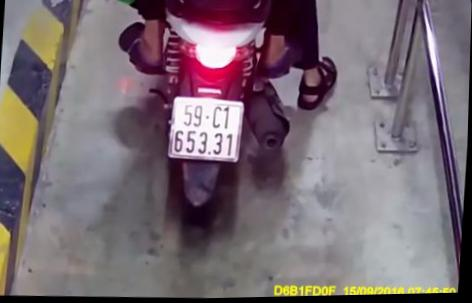LP: (169, 95, 246, 164)
